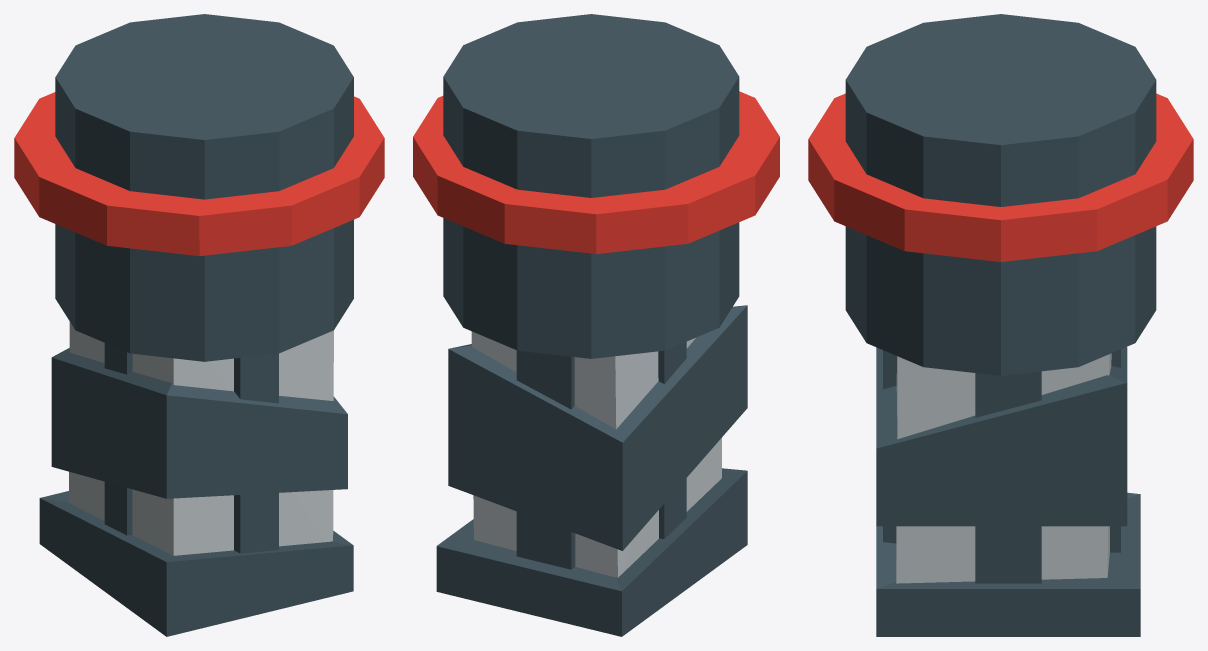
The model's file is building2.fbx.
The picture shows the model from 3 angles, left to right: view 1: azimuth 30°, elevation 25°; view 2: azimuth 150°, elevation 25°; view 3: azimuth 270°, elevation 25°; orthographic projection. The views are drawn at different scales.
Parts seen in each view (by area): view 1: group_70871161, mesh_1385386429, mesh_332871123, mesh_273193854, mesh_1526131120, mesh_1368249619; view 2: group_70871161, mesh_1385386429, mesh_332871123, mesh_273193854, mesh_196785984, mesh_1368249619; view 3: group_70871161, mesh_1385386429, mesh_332871123, mesh_273193854, mesh_1208744752, mesh_1526131120.
Boxes of the visible parts, left/top/right/bottom form: group_70871161: left=14, top=14, right=384, bottom=361; mesh_1385386429: left=51, top=348, right=347, bottom=498; mesh_332871123: left=39, top=491, right=353, bottom=636; mesh_273193854: left=69, top=322, right=333, bottom=555; mesh_1526131120: left=234, top=353, right=278, bottom=553; mesh_1368249619: left=104, top=343, right=132, bottom=535; group_70871161: left=413, top=14, right=779, bottom=358; mesh_1385386429: left=448, top=305, right=747, bottom=550; mesh_332871123: left=436, top=468, right=747, bottom=636; mesh_273193854: left=471, top=331, right=721, bottom=577; mesh_196785984: left=516, top=350, right=575, bottom=569; mesh_1368249619: left=658, top=341, right=686, bottom=538; group_70871161: left=808, top=14, right=1193, bottom=375; mesh_1385386429: left=876, top=347, right=1127, bottom=526; mesh_332871123: left=876, top=492, right=1140, bottom=636; mesh_273193854: left=896, top=353, right=1111, bottom=583; mesh_1208744752: left=975, top=371, right=1041, bottom=583; mesh_1526131120: left=883, top=350, right=896, bottom=543.
Size of the model in its own units: 58.28 by 85.54 by 58.28.
